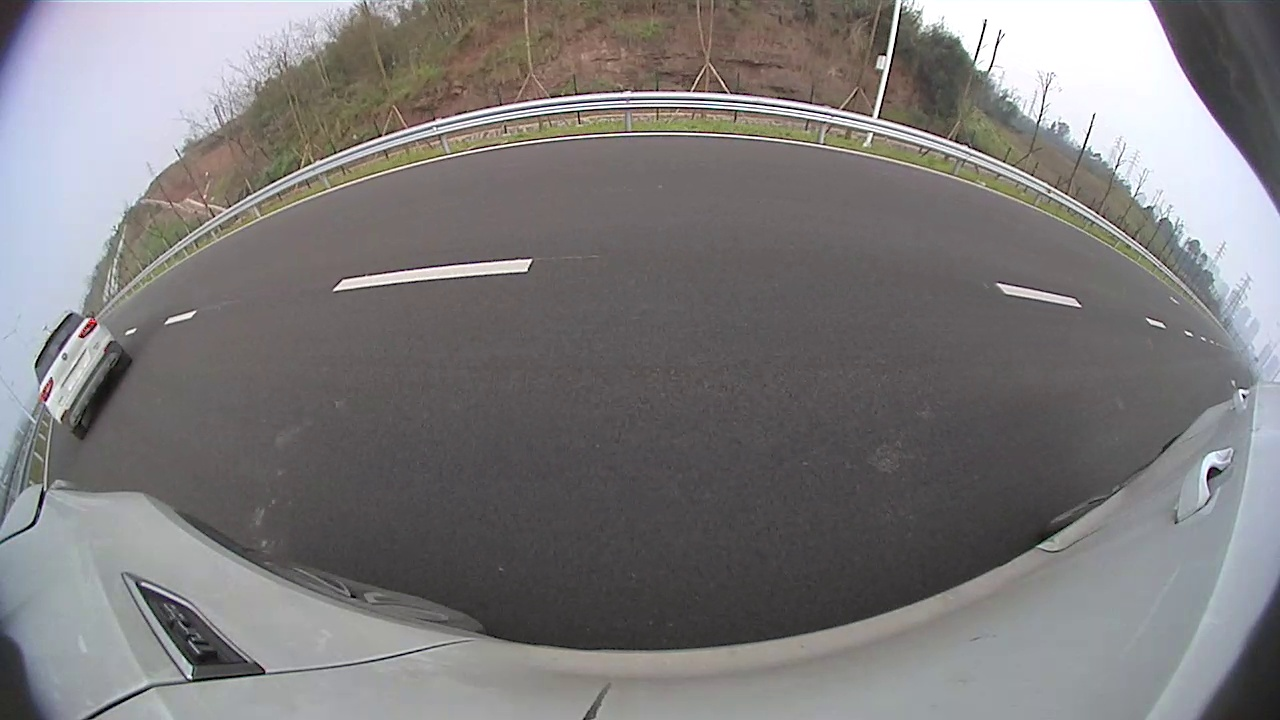car: (33, 310, 132, 442)
